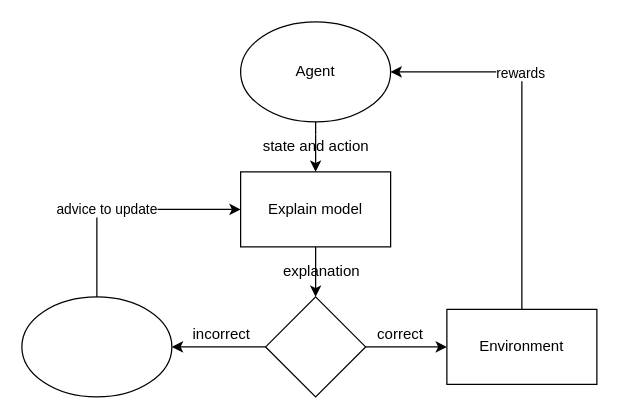
This 619x419 diagram has some shape labels left out. Each missing label, with the centre of its shape:
"Filter" belongs at pixel 315 346.
"Human" belongs at pixel 96 346.
